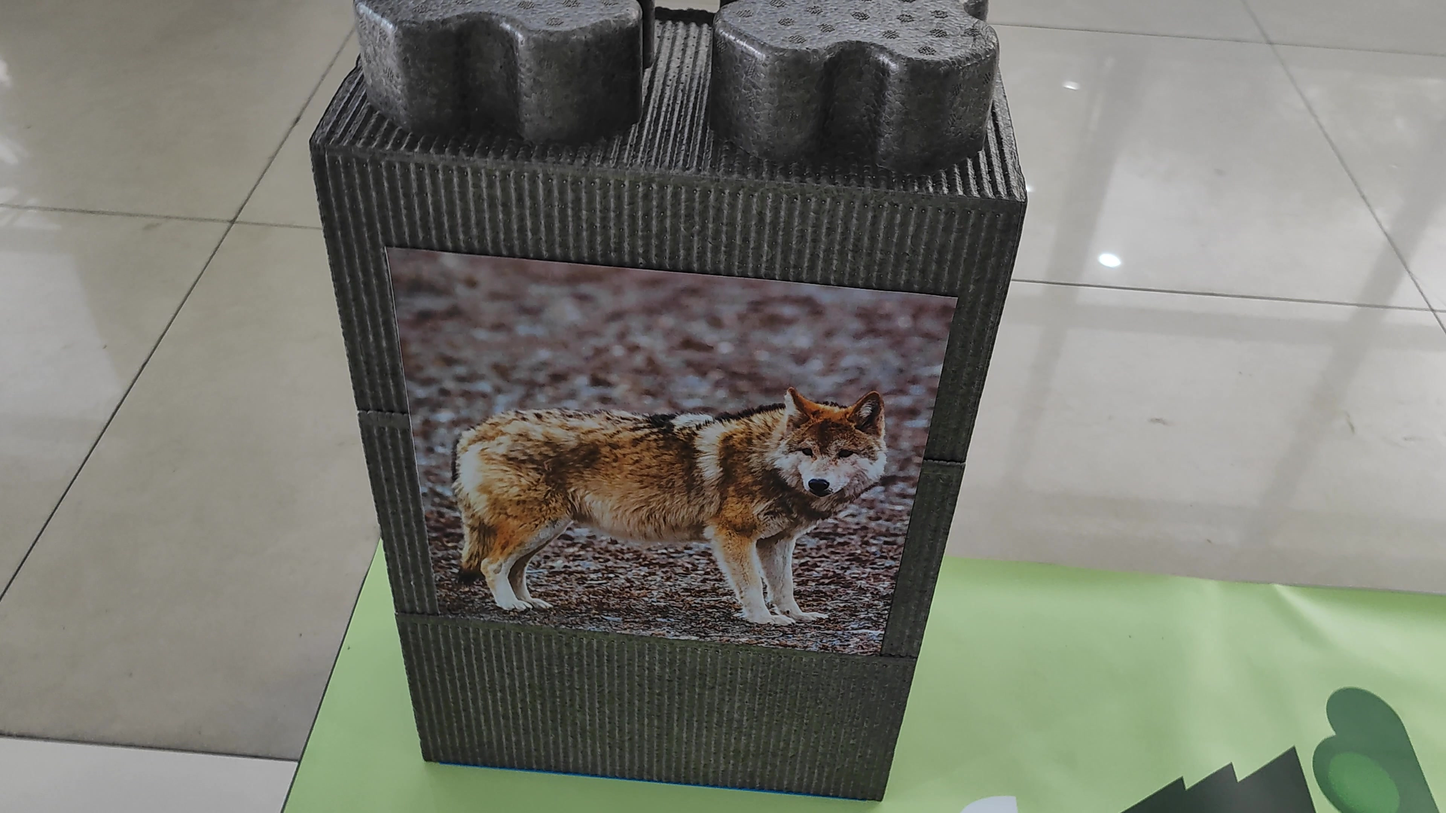wolf: (430, 314, 889, 662)
